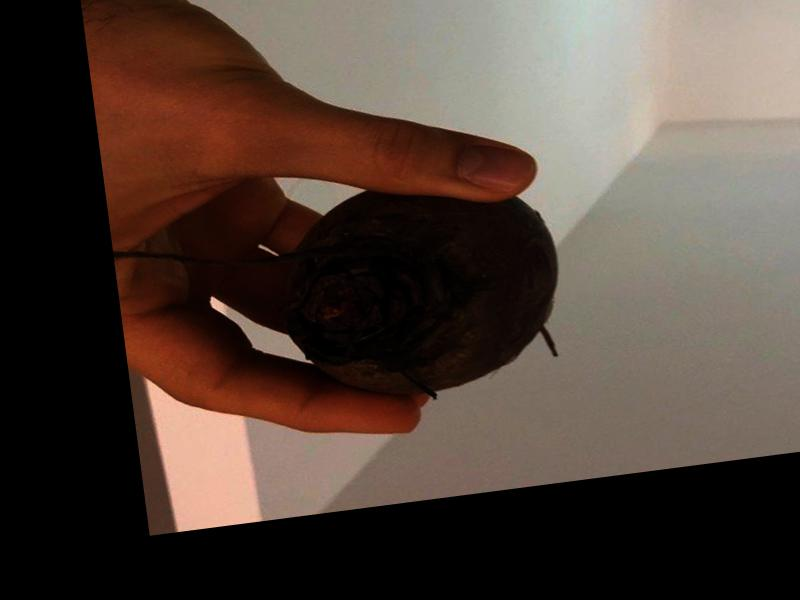Beet: (112, 164, 575, 438)
